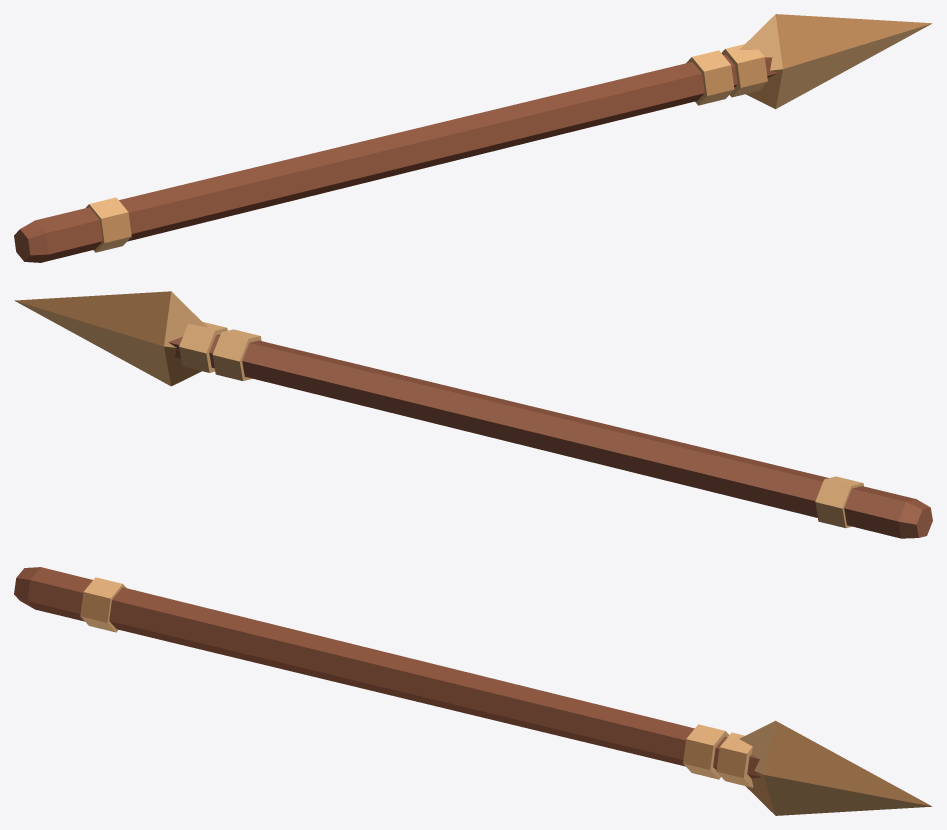
File: Bone_Spear.glb
3 views of the same model, one above another, from view 1: azimuth 30°, elevation 25°; view 2: azimuth 150°, elevation 25°; view 3: azimuth 330°, elevation 25° (orthographic).
Parts seen in each view (by area): view 1: Faceted shaft, Low-poly point, Pale binding.001, Pale binding, Pale binding.002; view 2: Faceted shaft, Low-poly point, Pale binding.001, Pale binding.002, Pale binding; view 3: Faceted shaft, Low-poly point, Pale binding.001, Pale binding, Pale binding.002.
Boxes of the visible parts, bbox=[...] form: Faceted shaft: bbox=[14, 54, 777, 262]; Low-poly point: bbox=[739, 14, 932, 109]; Pale binding.001: bbox=[686, 50, 734, 105]; Pale binding: bbox=[86, 197, 131, 252]; Pale binding.002: bbox=[721, 44, 767, 97]; Faceted shaft: bbox=[168, 334, 932, 538]; Low-poly point: bbox=[14, 291, 207, 386]; Pale binding.001: bbox=[212, 329, 261, 380]; Pale binding.002: bbox=[179, 322, 227, 372]; Pale binding: bbox=[815, 476, 863, 528]; Faceted shaft: bbox=[14, 567, 761, 778]; Low-poly point: bbox=[739, 720, 932, 815]; Pale binding.001: bbox=[683, 724, 729, 779]; Pale binding: bbox=[80, 577, 126, 632]; Pale binding.002: bbox=[716, 732, 753, 787].
Size of the model in its own units: 2.3 by 0.23 by 0.1063.
1 material, 1 textured.
